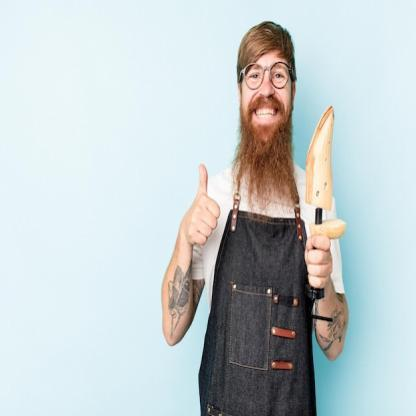thumb_up: (179, 158, 222, 250)
